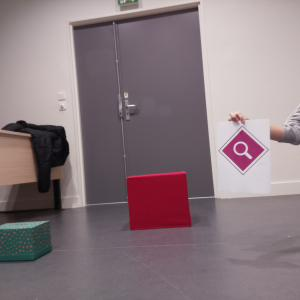search: (218, 125, 269, 175)
